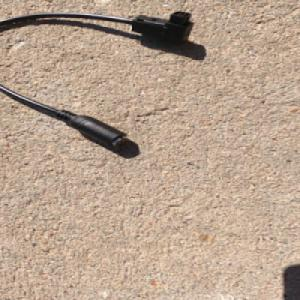Wire: (0, 9, 195, 147)
